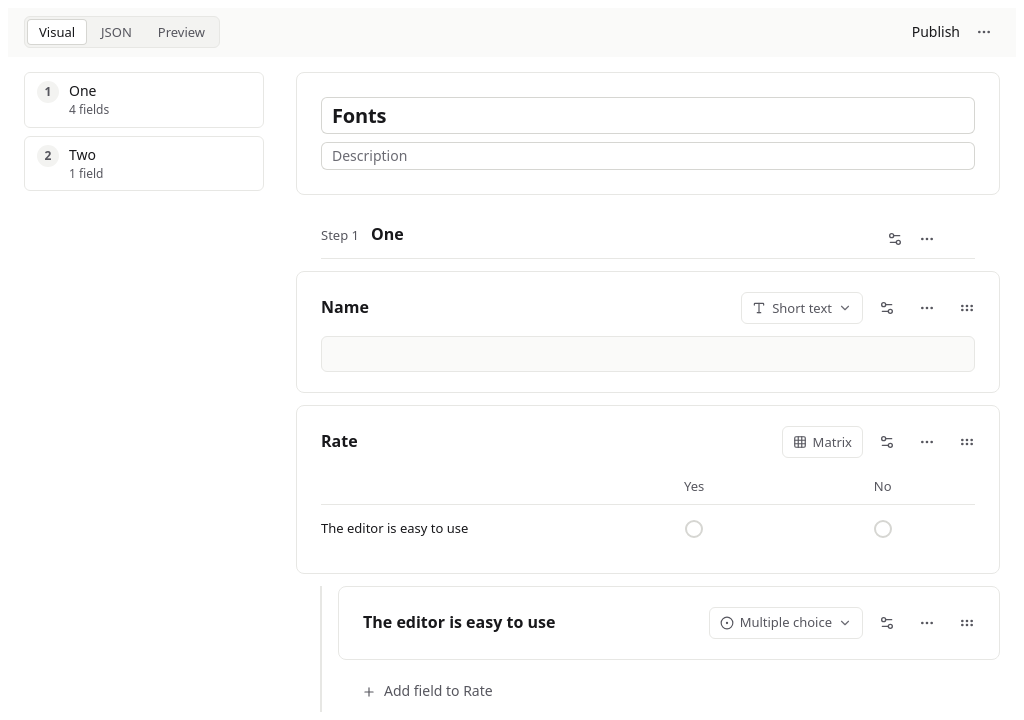
Scenario: overlays inherit the editor font on a serif host page › uses the editor font in the field actions menu at 1280
Click the 1st button named "Field actions" at point(927, 308), box [911, 292, 943, 324]
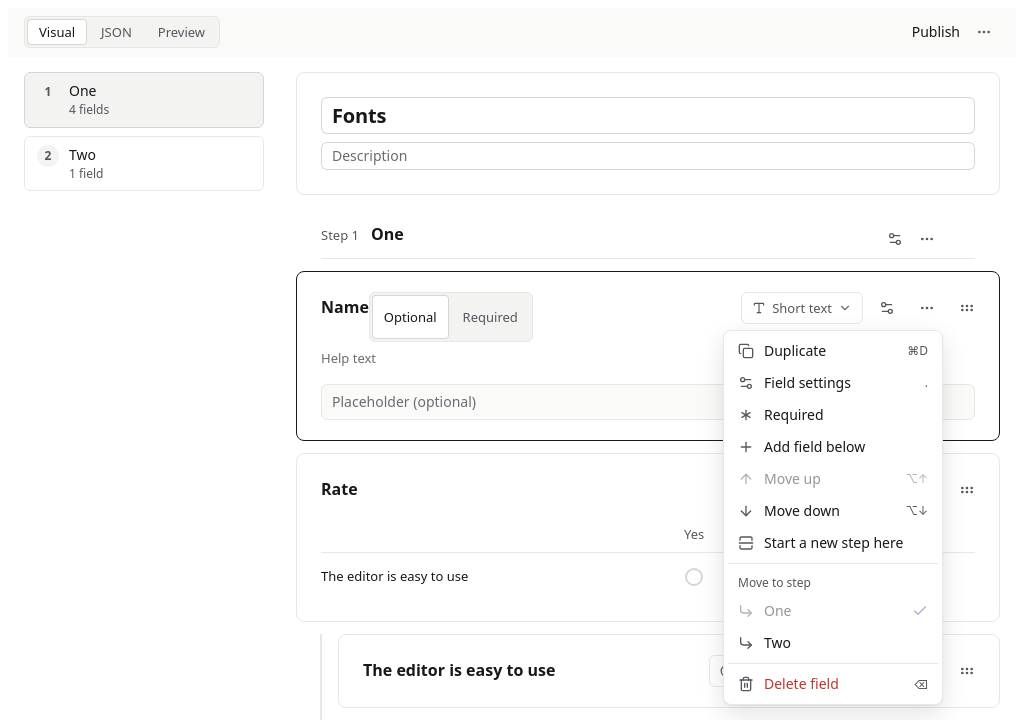
Now the menu is shown, box [723, 330, 943, 705]
